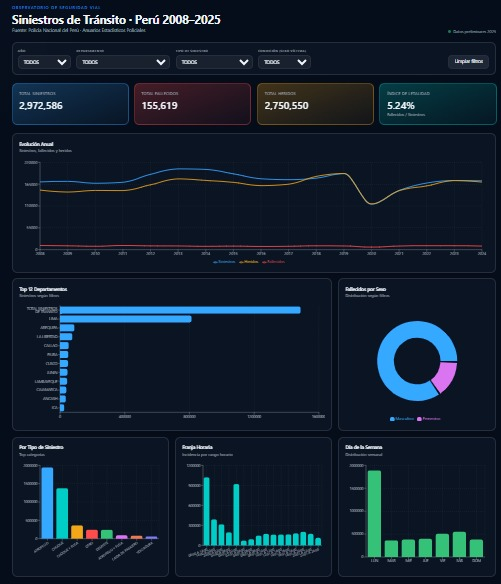

The page's visual inventory and layout, read from the dashboard file:
{"tool":"powerbi","page":{"name":"Página 1","canvas":[1280,720],"ordinal":0},"visuals":[{"type":"shape","box":[144,96,1136,625],"z":0},{"type":"shape","box":[939.9,620.7,22.4,14.7],"z":0,"group":"g1"},{"type":"shape","box":[0,0,1280,95],"z":1000},{"type":"shape","box":[960.9,620.7,22.4,14.7],"z":1000,"group":"g1"},{"type":"textbox","box":[208,32,1072,160],"z":2000},{"type":"shape","box":[982,620.7,22.4,14.7],"z":2000,"group":"g1"},{"type":"shape","box":[0,96,144,624],"z":3000},{"type":"shape","box":[1003.1,620.7,22.4,14.7],"z":3000,"group":"g1"},{"type":"textbox","box":[40,128,128,64],"z":4000},{"type":"shape","box":[1024.2,620.7,22.4,14.7],"z":4000,"group":"g1"},{"type":"textbox","box":[40,192,128,64],"z":5000},{"type":"shape","box":[1045.3,620.7,22.4,14.7],"z":5000,"group":"g1"},{"type":"textbox","box":[40,256,128,64],"z":6000},{"type":"textbox","box":[898.2,628.7,232,56],"z":6000,"group":"g1"},{"type":"textbox","box":[40,320,128,64],"z":7000},{"type":"textbox","box":[40,384,128,64],"z":8000},{"type":"textbox","box":[40,448,128,64],"z":9000},{"type":"textbox","box":[40,512,128,64],"z":10000},{"type":"shape","box":[0,120,16,48],"z":11000},{"type":"slicer","fields":{"Values":["Fact_Siniestros_Region.Año"]},"box":[160,104,240,64],"z":12000},{"type":"slicer","fields":{"Values":["Fact_Siniestros_Region.DEPARTAMENTO"]},"box":[472,104,208,64],"z":13000},{"type":"slicer","fields":{"Values":["Fact_Siniestros_Tipo.Tipo_Siniestro"]},"box":[752,104,224,64],"z":14000},{"type":"slicer","fields":{"Values":["Fact_Victimas.Condicion"]},"box":[1056,104,208,64],"z":15000},{"type":"cardVisual","fields":{"Data":["Fact_Siniestros_Region.Total Fallecidos"]},"box":[432,176,256,96],"z":16000},{"type":"cardVisual","fields":{"Data":["Fact_Siniestros_Region.Total Siniestros"]},"box":[160,176,264,96],"z":17000},{"type":"cardVisual","fields":{"Data":["Fact_Siniestros_Region.Total Heridos"]},"box":[704,176,272,96],"z":18000},{"type":"cardVisual","fields":{"Data":["Fact_Siniestros_Region.Regiones Reportadas"]},"box":[1008,176,272,96],"z":19000},{"type":"lineChart","title":"       Evolución anual de siniestros","fields":{"Category":["Fact_Siniestros_Region.Año"],"Y":["Sum(Fact_Siniestros_Region.Total_Siniestros)"]},"box":[160,280,432,176],"z":20000},{"type":"azureMap","title":"Distribución geográfica de siniestros","fields":{"Category":["Fact_Siniestros_Region.Ubicacion_Mapa"],"Size":["Fact_Siniestros_Region.Total Siniestros"]},"box":[608,280,288,208],"z":21000},{"type":"clusteredBarChart","title":"Top departamentos con más siniestros","fields":{"Category":["Fact_Siniestros_Region.Departamento"],"Y":["Fact_Siniestros_Region.Total Siniestros"]},"box":[912,280,352,208],"z":22000},{"type":"donutChart","title":"Tipo de siniestro","fields":{"Category":["Fact_Siniestros_Tipo.Tipo_Siniestro"],"Y":["Sum(Fact_Siniestros_Tipo.Cantidad)"]},"box":[160,464,304,224],"z":23000},{"type":"pivotTable","title":"Comparativo mensual de siniestros 2023-2025","fields":{"Rows":["Fact_Siniestros_Mensual.Año"],"Values":["Sum(Fact_Siniestros_Mensual.Siniestros)"],"Columns":["Dim_Meses.Mes_Corto"]},"box":[786.2,492.7,480,176],"z":24000},{"type":"columnChart","title":"Fallecidos y heridos por año","fields":{"Category":["Fact_Victimas.Año"],"Series":["Fact_Victimas.Condicion"],"Y":["Sum(Fact_Victimas.Cantidad)"]},"box":[472,496,304,192],"z":25000},{"type":"group","id":"g1","title":"Grupo 1","box":[898.2,620.7,232,64],"z":26000},{"type":"shape","box":[176,16,16,64],"z":27000},{"type":"image","box":[192,280,32,32],"z":28000},{"type":"image","box":[320,112,96,48],"z":29000},{"type":"image","box":[832,280,48,48],"z":30000},{"type":"image","box":[624,112,64,48],"z":31000},{"type":"image","box":[800,8,480,88],"z":32000},{"type":"image","box":[912,104,53,61],"z":33000},{"type":"image","box":[1208,112,48,56],"z":34000},{"type":"image","box":[728,480,48,64],"z":35000},{"type":"image","box":[912,272,32,48],"z":36000},{"type":"image","box":[8,152,32,112],"z":37000},{"type":"image","box":[0,416,40,96],"z":38000},{"type":"image","box":[0,496,40,64],"z":39000},{"type":"image","box":[0,248,45,45],"z":40000},{"type":"image","box":[8,128,32,32],"z":41000},{"type":"image","box":[0,352,42,85],"z":42000},{"type":"image","box":[8,304,40,56],"z":43000},{"type":"image","box":[272,456,72,40],"z":44000},{"type":"textbox","box":[208,8,1071,144],"z":45000},{"type":"image","box":[0,16,192,64],"z":46000}]}

Visuals, with their boxes on the page's 1280x720 design canvas (x1, y1, x2, y2). These are canvas units, not pixel positions in the 501x584 screenshot, which may show the page scaled, cropped or inside an application window:
shape: <region>144, 96, 1280, 721</region>
shape: <region>940, 621, 962, 635</region>
shape: <region>0, 0, 1280, 95</region>
shape: <region>961, 621, 983, 635</region>
textbox: <region>208, 32, 1280, 192</region>
shape: <region>982, 621, 1004, 635</region>
shape: <region>0, 96, 144, 720</region>
shape: <region>1003, 621, 1026, 635</region>
textbox: <region>40, 128, 168, 192</region>
shape: <region>1024, 621, 1047, 635</region>
textbox: <region>40, 192, 168, 256</region>
shape: <region>1045, 621, 1068, 635</region>
textbox: <region>40, 256, 168, 320</region>
textbox: <region>898, 629, 1130, 685</region>
textbox: <region>40, 320, 168, 384</region>
textbox: <region>40, 384, 168, 448</region>
textbox: <region>40, 448, 168, 512</region>
textbox: <region>40, 512, 168, 576</region>
shape: <region>0, 120, 16, 168</region>
slicer - Fact_Siniestros_Region.Año: <region>160, 104, 400, 168</region>
slicer - Fact_Siniestros_Region.DEPARTAMENTO: <region>472, 104, 680, 168</region>
slicer - Fact_Siniestros_Tipo.Tipo_Siniestro: <region>752, 104, 976, 168</region>
slicer - Fact_Victimas.Condicion: <region>1056, 104, 1264, 168</region>
cardVisual - Fact_Siniestros_Region.Total Fallecidos: <region>432, 176, 688, 272</region>
cardVisual - Fact_Siniestros_Region.Total Siniestros: <region>160, 176, 424, 272</region>
cardVisual - Fact_Siniestros_Region.Total Heridos: <region>704, 176, 976, 272</region>
cardVisual - Fact_Siniestros_Region.Regiones Reportadas: <region>1008, 176, 1280, 272</region>
"       Evolución anual de siniestros" lineChart: <region>160, 280, 592, 456</region>
"Distribución geográfica de siniestros" azureMap: <region>608, 280, 896, 488</region>
"Top departamentos con más siniestros" clusteredBarChart: <region>912, 280, 1264, 488</region>
"Tipo de siniestro" donutChart: <region>160, 464, 464, 688</region>
"Comparativo mensual de siniestros 2023-2025" pivotTable: <region>786, 493, 1266, 669</region>
"Fallecidos y heridos por año" columnChart: <region>472, 496, 776, 688</region>
"Grupo 1" group: <region>898, 621, 1130, 685</region>
shape: <region>176, 16, 192, 80</region>
image: <region>192, 280, 224, 312</region>
image: <region>320, 112, 416, 160</region>
image: <region>832, 280, 880, 328</region>
image: <region>624, 112, 688, 160</region>
image: <region>800, 8, 1280, 96</region>
image: <region>912, 104, 965, 165</region>
image: <region>1208, 112, 1256, 168</region>
image: <region>728, 480, 776, 544</region>
image: <region>912, 272, 944, 320</region>
image: <region>8, 152, 40, 264</region>
image: <region>0, 416, 40, 512</region>
image: <region>0, 496, 40, 560</region>
image: <region>0, 248, 45, 293</region>
image: <region>8, 128, 40, 160</region>
image: <region>0, 352, 42, 437</region>
image: <region>8, 304, 48, 360</region>
image: <region>272, 456, 344, 496</region>
textbox: <region>208, 8, 1279, 152</region>
image: <region>0, 16, 192, 80</region>
